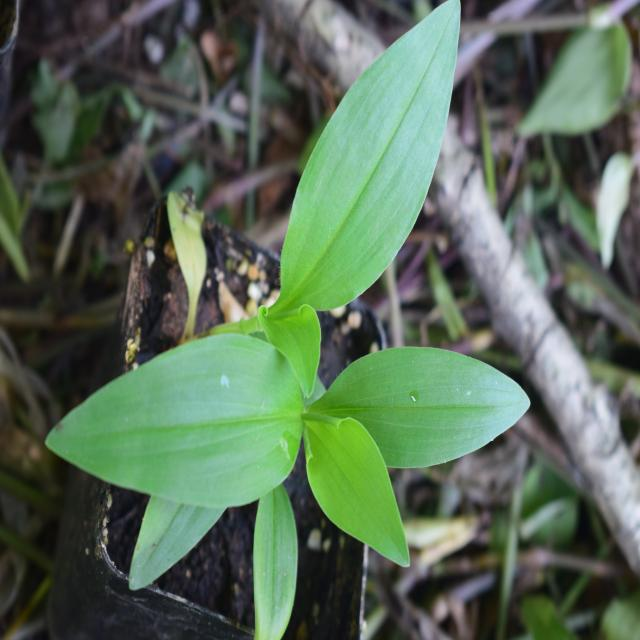Common Dayflower: (65, 284, 531, 595), (271, 6, 494, 304)
